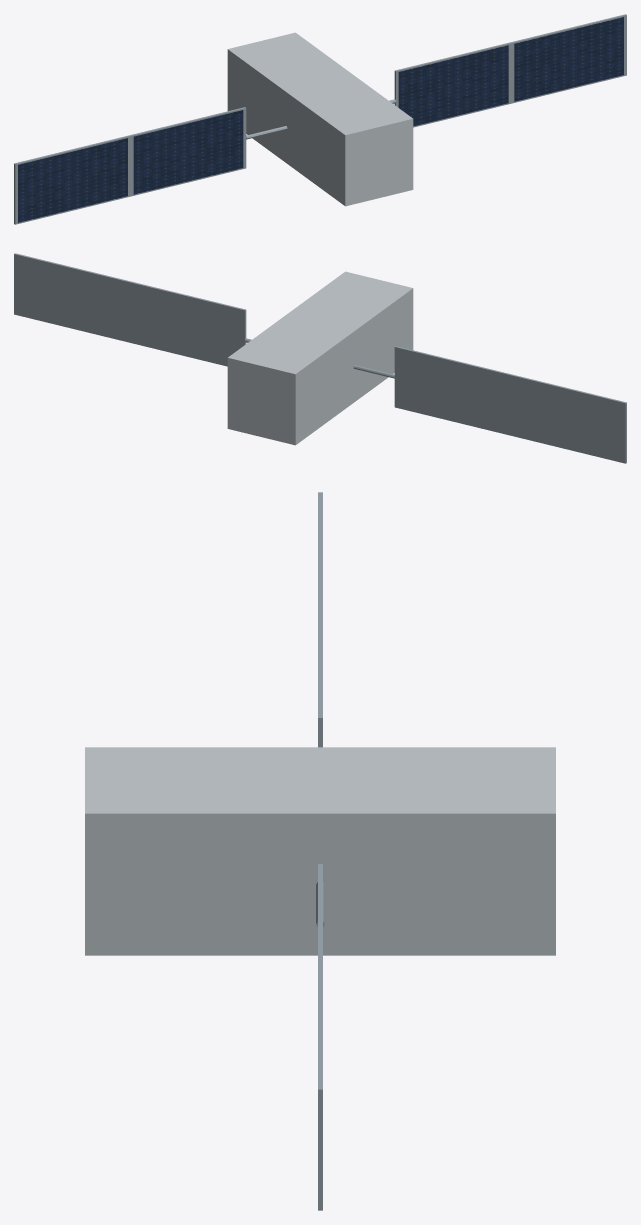
The model's file is ref-pocketqube-3p-44827.glb.
3 renders of one model, top to bottom at view 1: azimuth 30°, elevation 25°; view 2: azimuth 150°, elevation 25°; view 3: azimuth 270°, elevation 25°, orthographic. The views are drawn at different scales.
Parts seen in each view (by area): view 1: Photovoltaic laminates (×4), Spacecraft body, Array frame (×4); view 2: Array frame (×4), Spacecraft body; view 3: Spacecraft body, Array frame.
Boxes of the visible parts, box(x1,y1,x2,y2) form: Photovoltaic laminates (×4): box(18, 17, 623, 222); Spacecraft body: box(227, 32, 413, 206); Array frame (×4): box(14, 14, 626, 224); Array frame (×4): box(14, 253, 626, 463); Spacecraft body: box(227, 271, 413, 445); Spacecraft body: box(85, 747, 555, 955); Array frame: box(318, 976, 322, 1210).
Size of the model in its own units: 0.45 by 0.05 by 0.15.
3 materials, 1 textured.
